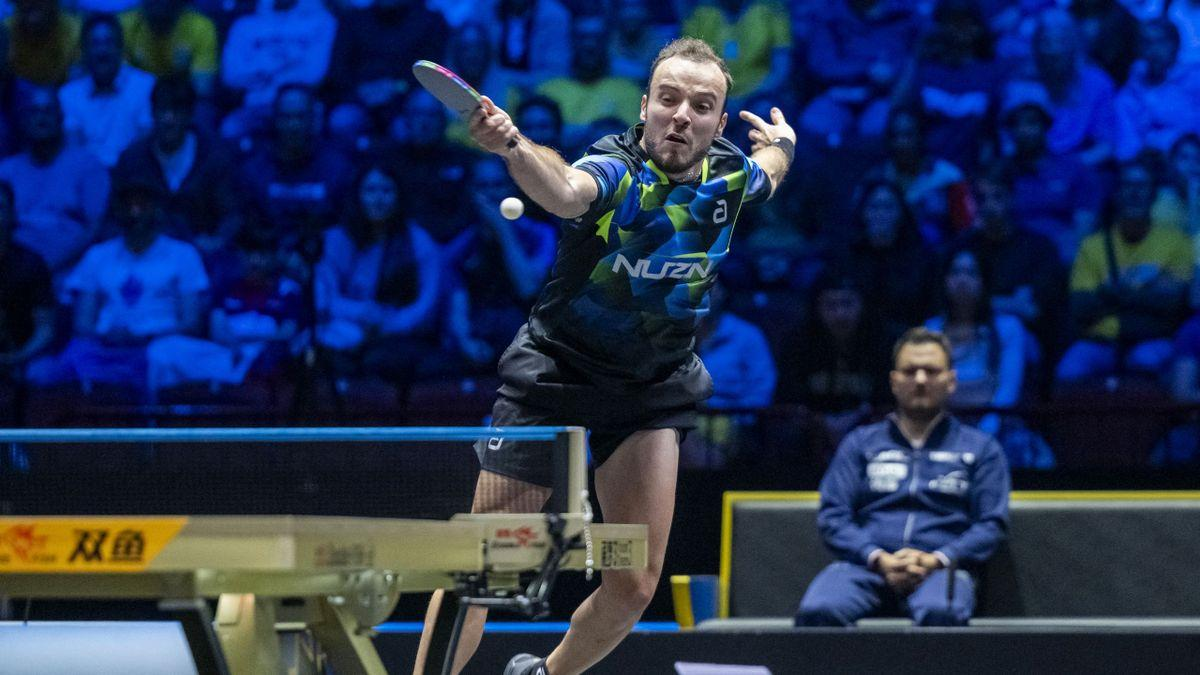ball_pingpong: (501, 195, 524, 220)
